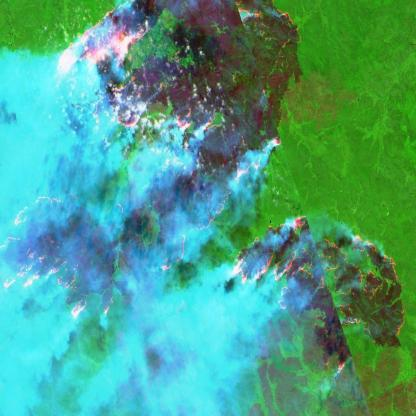fire: (0, 0, 405, 380)
